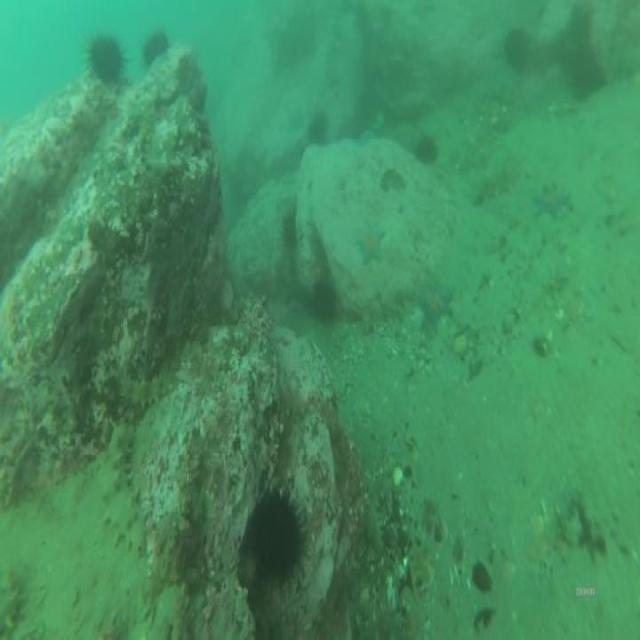echinus: (252, 494, 298, 578), (89, 40, 122, 79), (576, 66, 606, 96), (506, 30, 530, 65), (416, 136, 436, 164), (309, 112, 327, 142), (145, 32, 169, 54)
holothurian: (102, 490, 148, 553), (119, 378, 173, 406), (115, 433, 135, 480)
scallop: (385, 588, 398, 611), (391, 465, 402, 485)
starfish: (420, 280, 452, 326), (534, 182, 567, 215), (357, 226, 384, 264)
